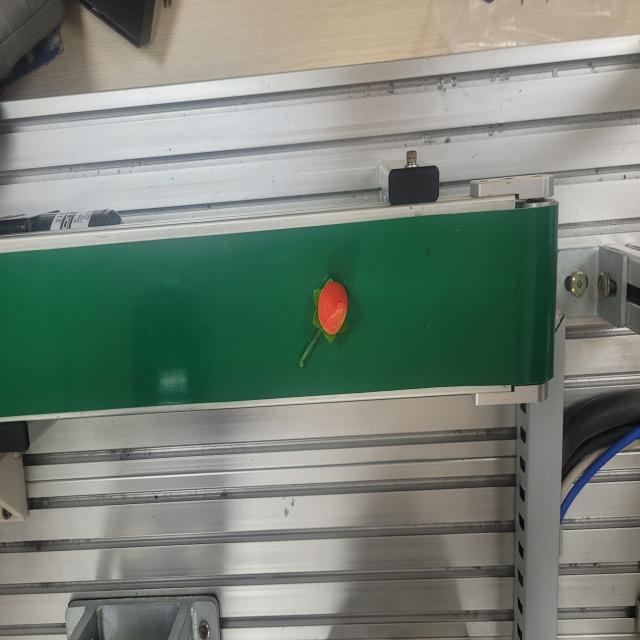Small Unripe Strawberry: (305, 277, 358, 345)
